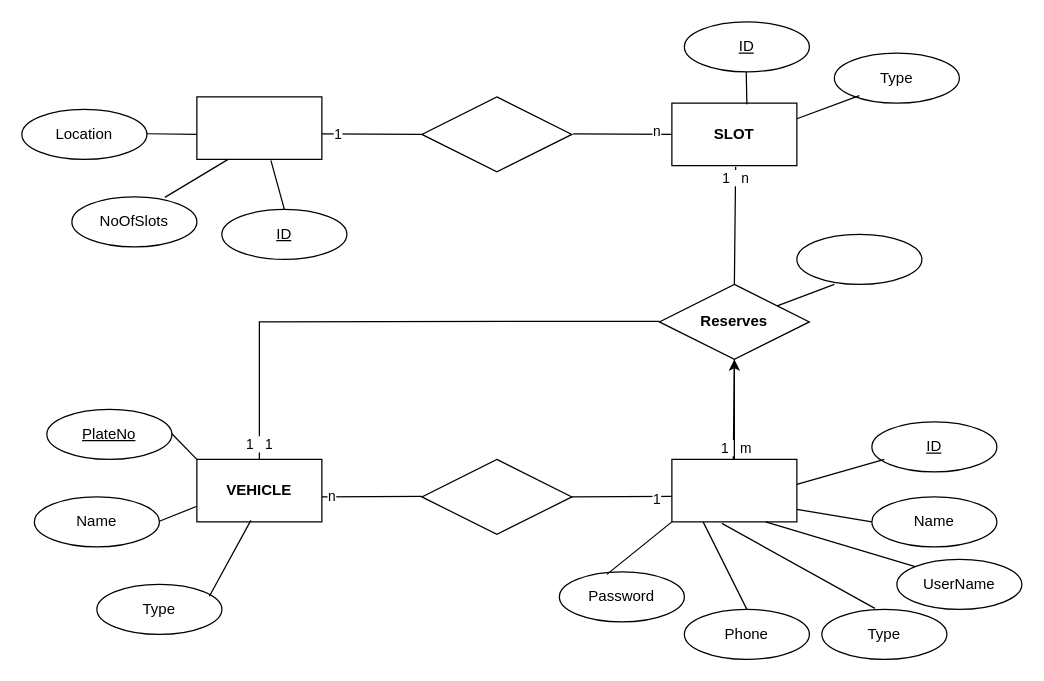
Image size: 1044x681. Some labels were removed from this diagram. The centre of each missing label's shape, as x and y in pixels:
"Has" goes at pixel 496 134.
"LOT" goes at pixel 259 127.
"Owns" goes at pixel 496 496.
"StartTime" goes at pixel 859 258.
"USER" goes at pixel 734 490.
